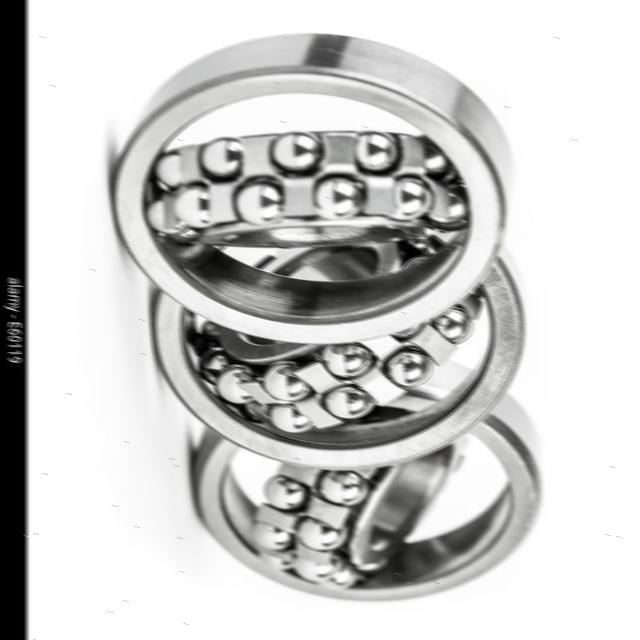Bearing: (107, 32, 516, 346), (144, 215, 530, 473), (189, 357, 548, 606)
